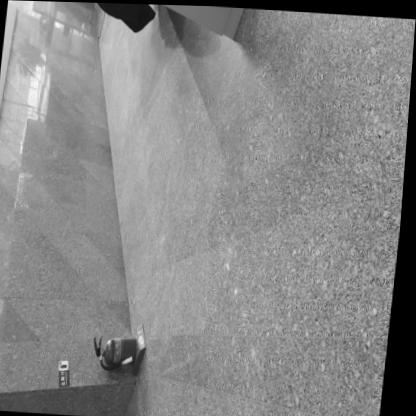FE: (94, 320, 153, 375)
